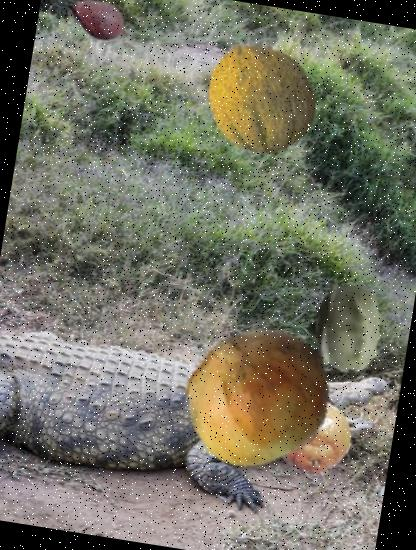Cantaloupe: (195, 32, 328, 164)
Kohlrabi: (296, 276, 401, 381)
Mandarine: (270, 394, 358, 481)
Onion: (174, 314, 343, 483)
Salak: (61, 0, 139, 60)
Strawberry: (259, 374, 341, 456)
